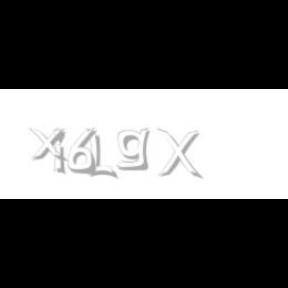6: (68, 128, 96, 176)
L: (87, 128, 115, 180)
X: (156, 128, 200, 180)
g: (116, 128, 154, 171)
i: (53, 128, 69, 176)
x: (29, 128, 71, 162)
